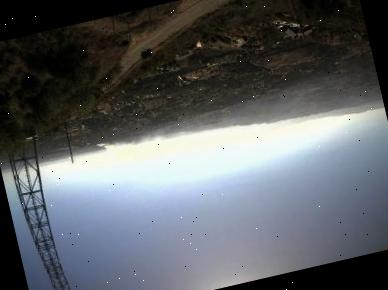smoke: (93, 123, 181, 163)
